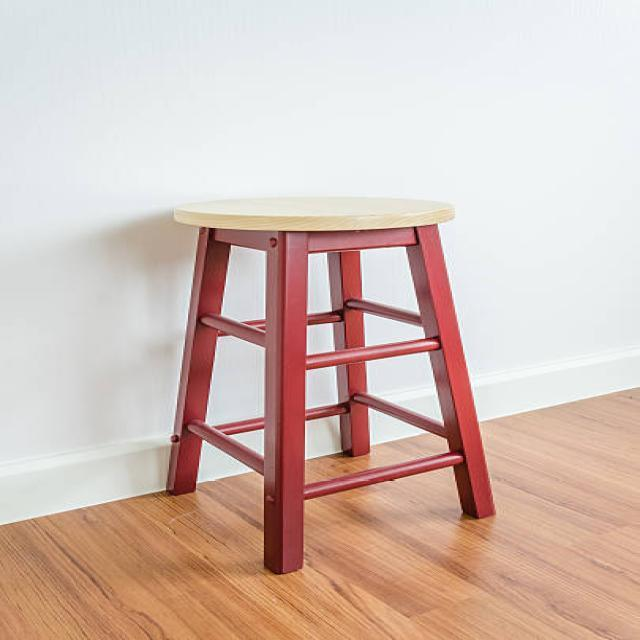table: (164, 195, 496, 574)
